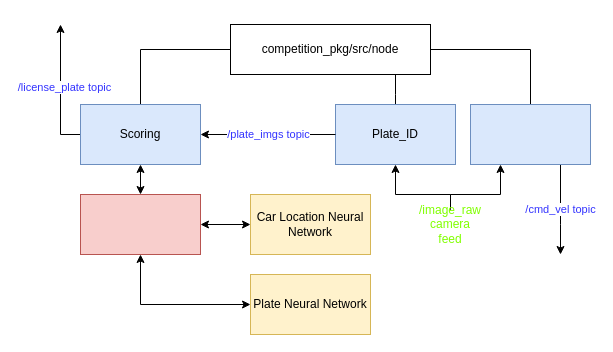
This 613x352 diagram has some shape labels left out. Here are the shapes that lost their labels. From the top down, the centre of each, then its label:
point (530, 134): PID_Motion
point (140, 224): Neural Network Manager
